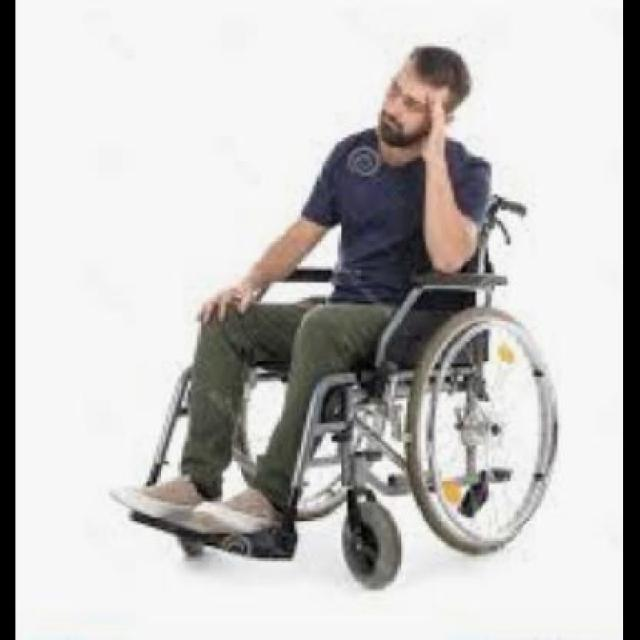wheelchairs: (126, 296, 557, 576)
